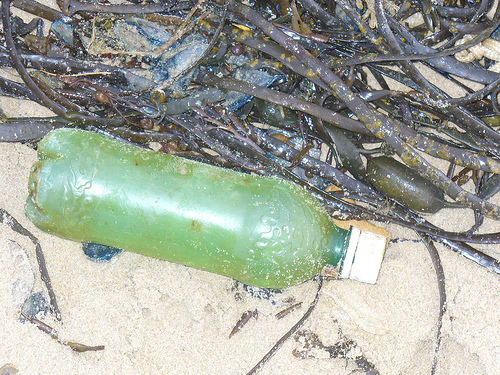litter: (22, 126, 387, 291)
